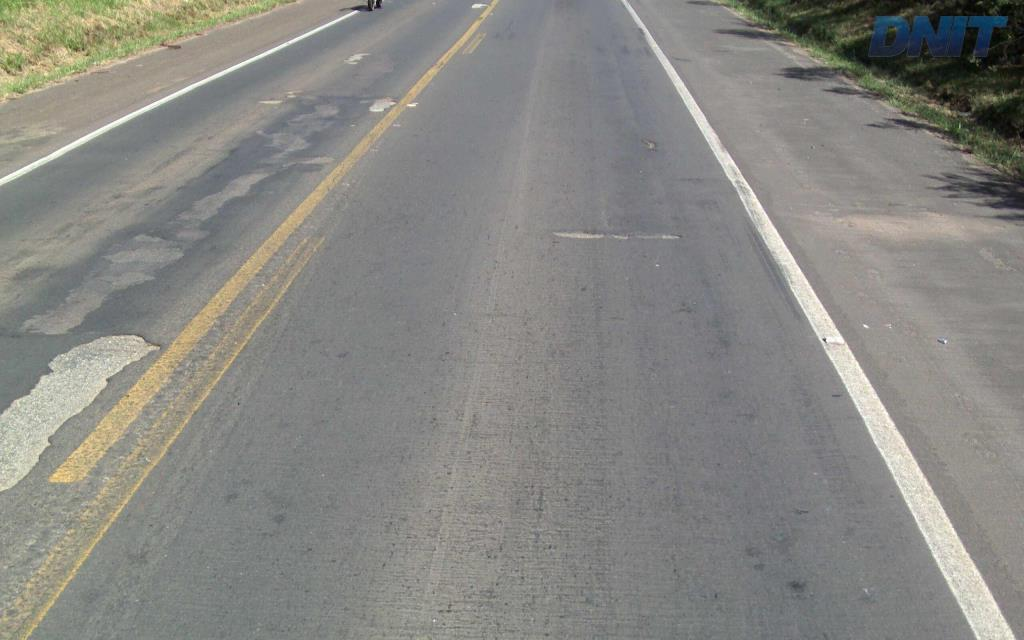pothole: (547, 227, 685, 243), (642, 135, 656, 151)
